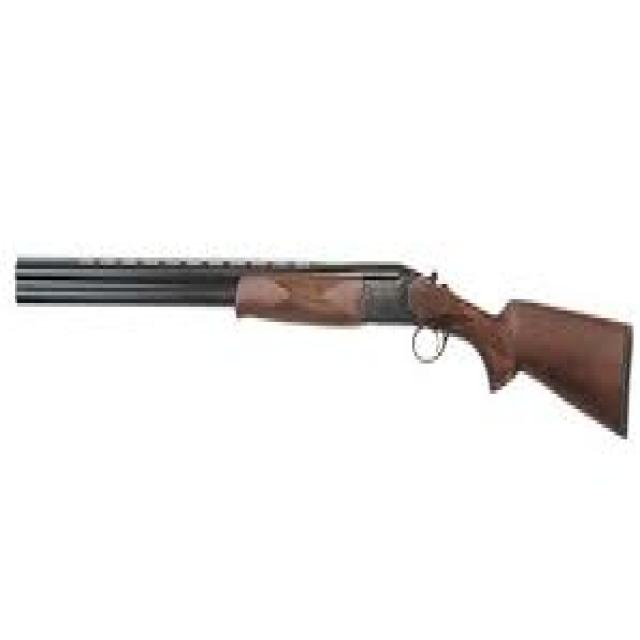rifle: (12, 239, 639, 456)
